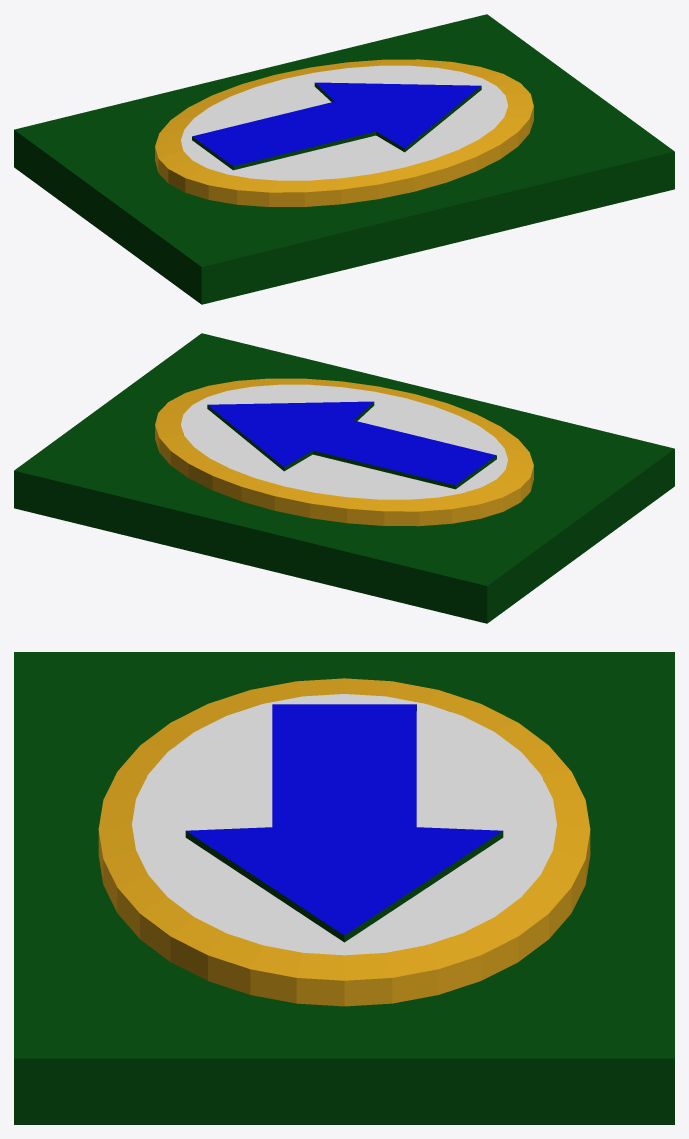
Rendered from generic_sensor.glb.
3 renders of one model, top to bottom at view 1: azimuth 30°, elevation 25°; view 2: azimuth 150°, elevation 25°; view 3: azimuth 270°, elevation 25°, orthographic. The views are drawn at different scales.
Visible parts, largest first — view 1: Cube; view 2: Cube; view 3: Cube.
Part boxes in pixels (x1,y1,x2,y2): Cube: [14, 14, 674, 304]; Cube: [14, 333, 674, 623]; Cube: [14, 652, 674, 1124].
Size of the model in its own units: 0.0582 by 0.00695 by 0.04.
